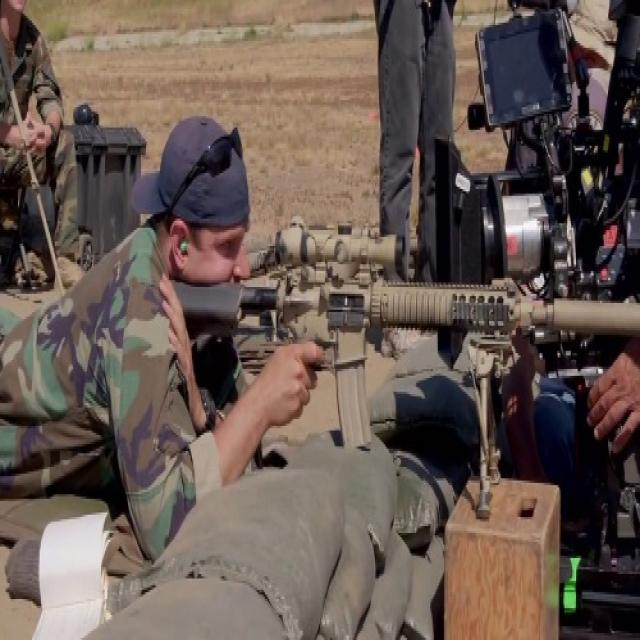rifle: (170, 219, 640, 531)
